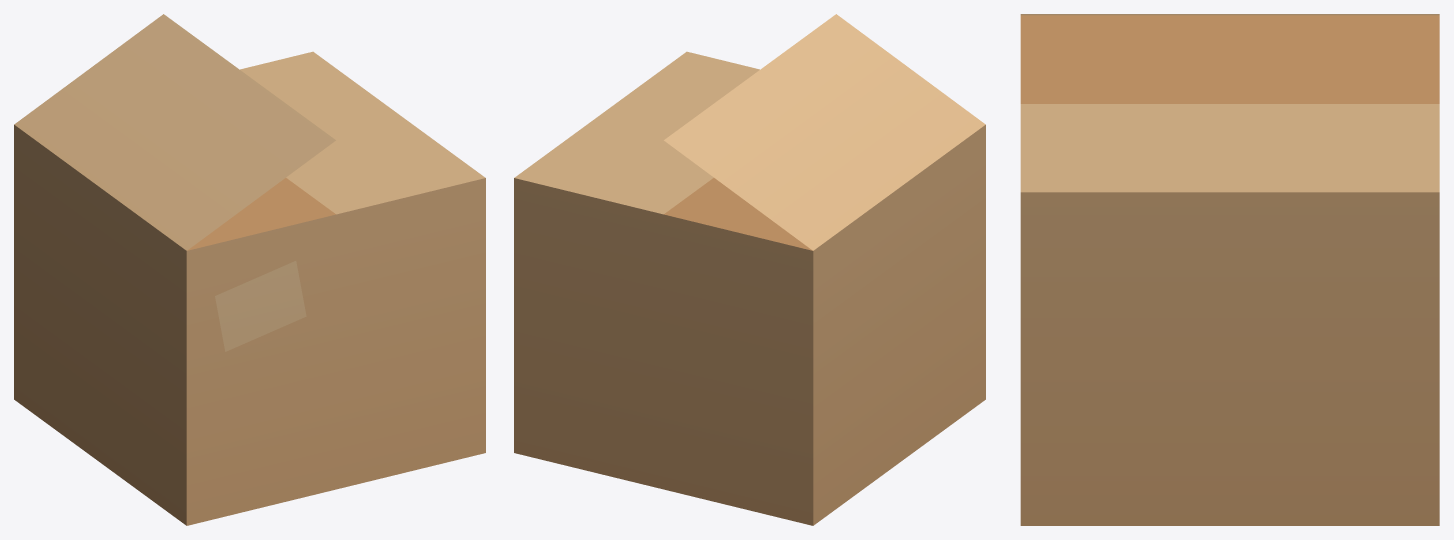
The picture shows the model from 3 angles, left to right: view 1: azimuth 30°, elevation 25°; view 2: azimuth 150°, elevation 25°; view 3: azimuth 270°, elevation 25°; orthographic projection. The views are drawn at different scales.
Parts seen in each view (by area): view 1: box_B; view 2: box_B; view 3: box_B.
Boxes of the visible parts, <box> form: box_B: <box>14,14,485,525</box>; box_B: <box>514,14,985,525</box>; box_B: <box>1020,14,1439,525</box>.
Size of the model in its own units: 0.1521 by 0.1696 by 0.1544.
